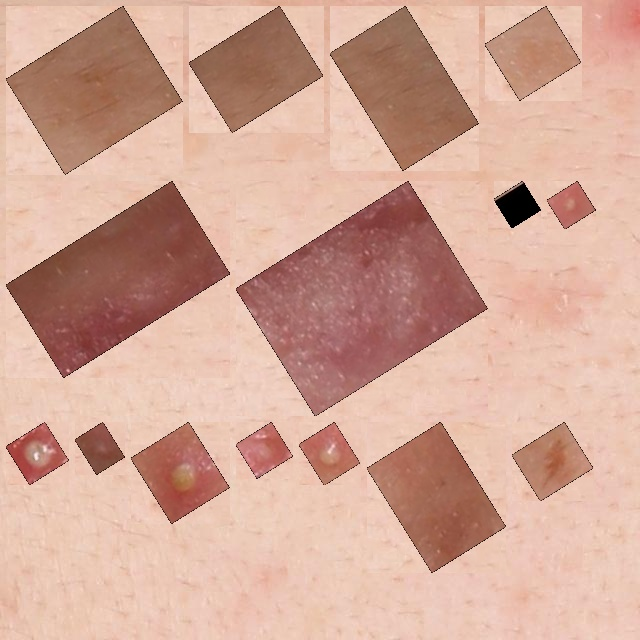hypertrophic_scar: (247, 192, 477, 405), (17, 192, 219, 366), (378, 433, 495, 561)
melasma: (17, 17, 171, 163), (341, 17, 468, 159), (200, 17, 312, 121), (496, 17, 570, 89), (523, 433, 582, 490)
pustule: (142, 433, 218, 512), (17, 433, 58, 474), (310, 433, 349, 474), (247, 433, 282, 467), (86, 433, 114, 463), (558, 192, 585, 218), (505, 192, 530, 217)
